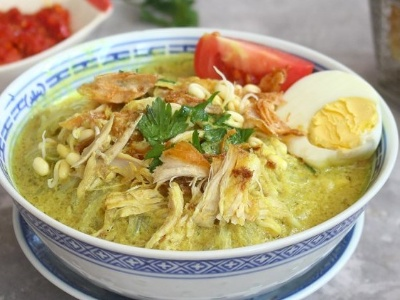soto: (44, 71, 366, 236)
